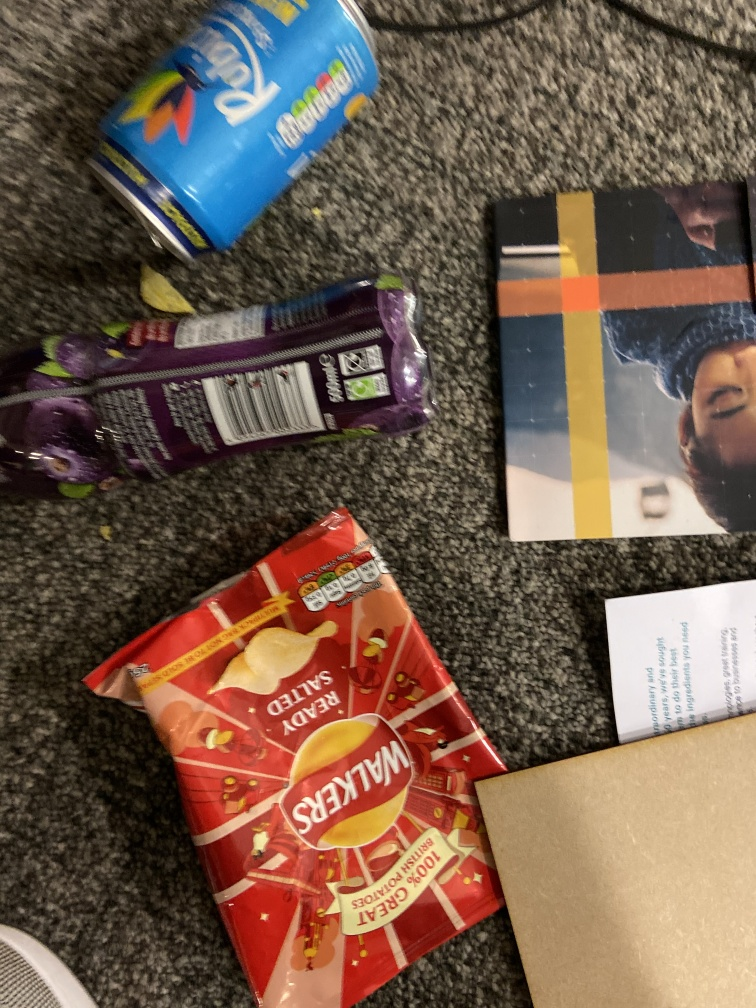bottle_purple: (1, 271, 438, 504)
can_blue: (83, 2, 390, 266)
